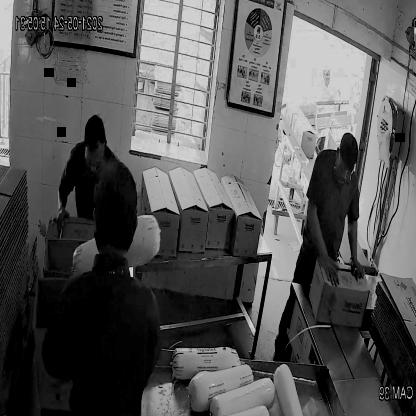goggles: (335, 155, 358, 178)
